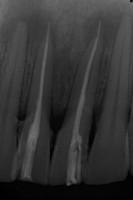Furcation Involvement: (0, 0, 57, 54), (80, 10, 123, 49)
